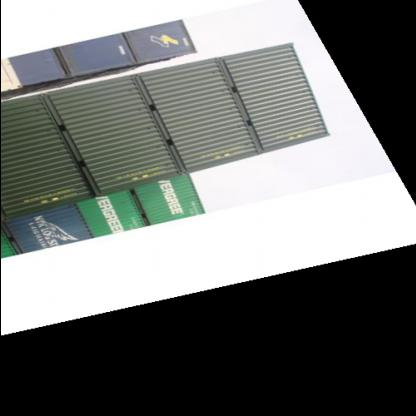Damage: (133, 100, 155, 141), (209, 65, 226, 97)
